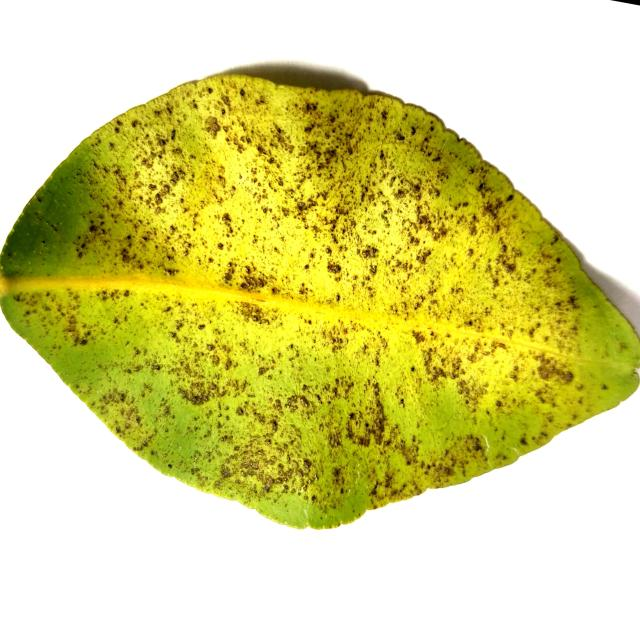melanose: (0, 75, 640, 528)
